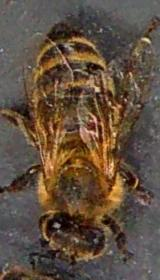varroa_mite: (76, 112, 105, 140)
